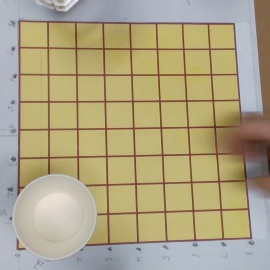cup: (13, 175, 97, 261)
